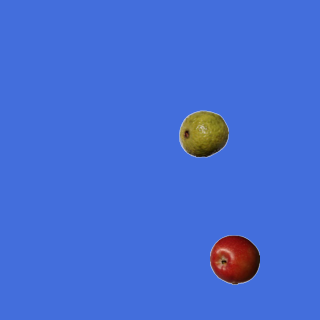Apple Braeburn: (209, 234, 259, 284)
Guava: (178, 108, 228, 158)
